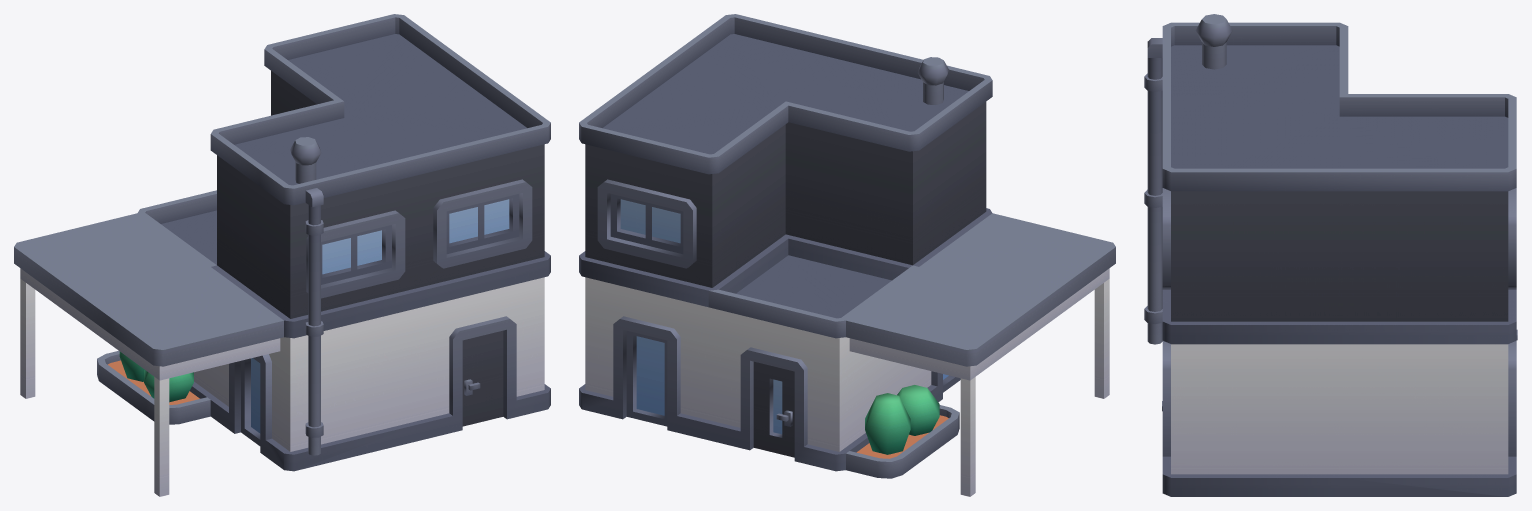
The model's file is building-type-q.glb.
The picture shows the model from 3 angles, left to right: view 1: azimuth 30°, elevation 25°; view 2: azimuth 150°, elevation 25°; view 3: azimuth 270°, elevation 25°; orthographic projection. The views are drawn at different scales.
Visible parts, largest first — view 1: building-type-q; view 2: building-type-q; view 3: building-type-q.
Boxes of the visible parts, x1,y1,x2,y2 form: building-type-q: (14,14,550,496); building-type-q: (579,14,1115,496); building-type-q: (1144,14,1517,496).
Size of the model in its own units: 1.24 by 0.918 by 0.8856.
Materials: 1 (1 with a texture image).
